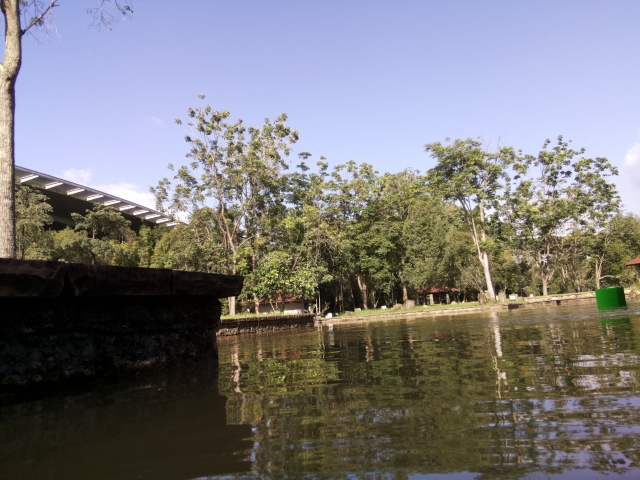obstacle: (593, 284, 629, 314)
